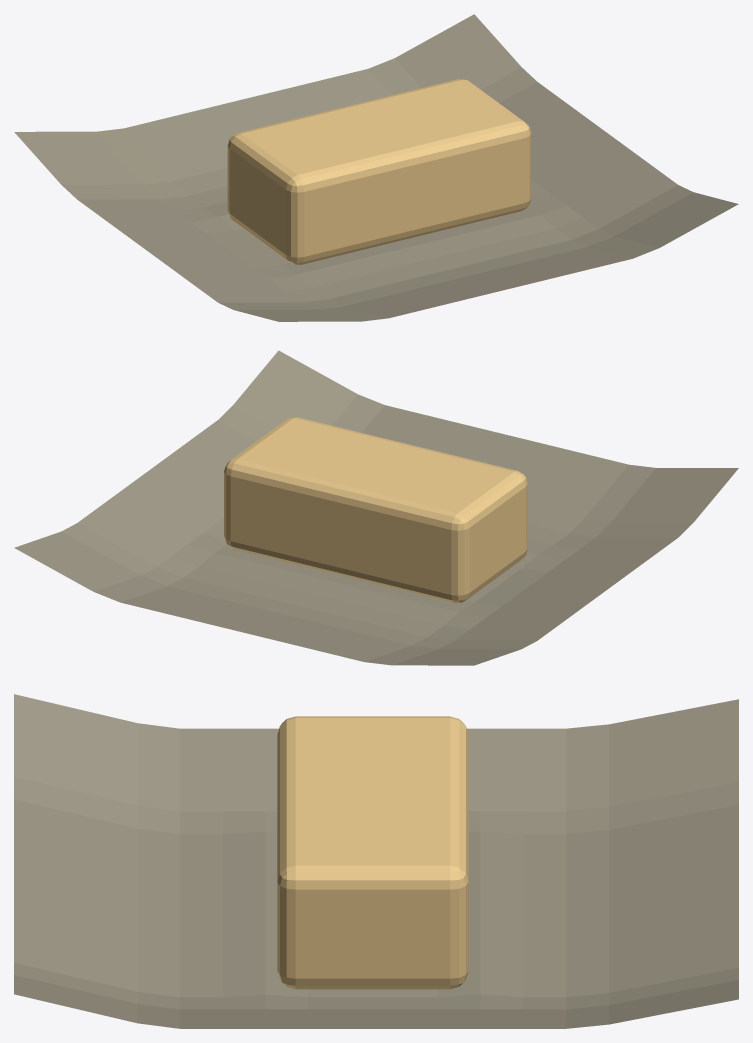
The model's file is butter.glb.
3 views of the same model, one above another, from view 1: azimuth 30°, elevation 25°; view 2: azimuth 150°, elevation 25°; view 3: azimuth 270°, elevation 25° (orthographic). The views are drawn at different scales.
Visible parts, largest first — view 1: Cube; view 2: Cube; view 3: Cube.
Boxes of the visible parts, x1,y1,x2,y2 form: Cube: (14, 14, 738, 321); Cube: (14, 350, 738, 665); Cube: (14, 694, 738, 1028).
Size of the model in its own units: 5.85 by 1.1 by 5.83.
